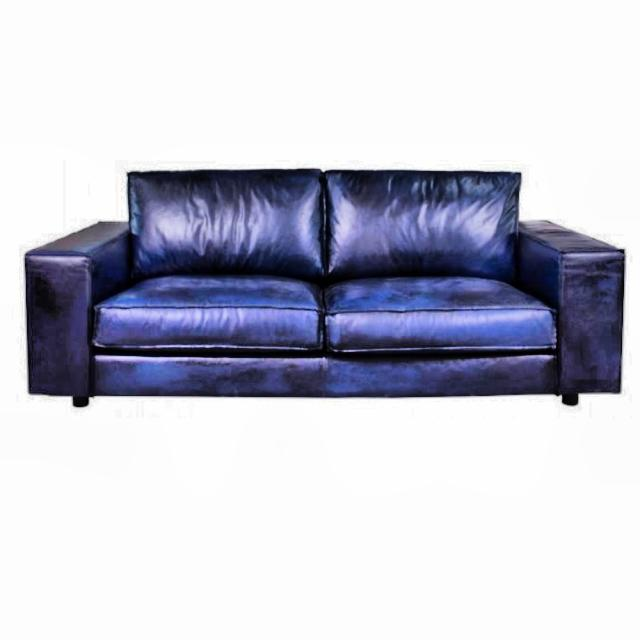sofa: (23, 166, 626, 408)
